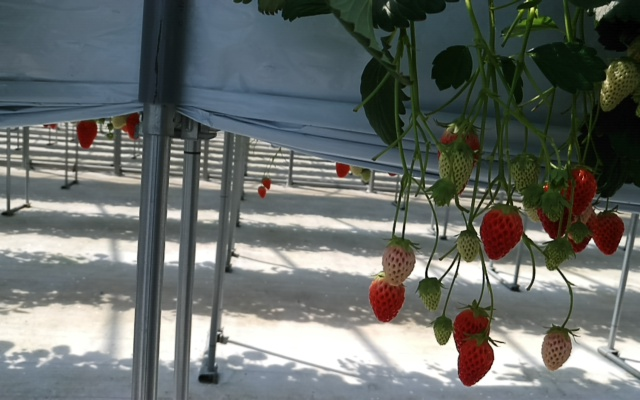GreenStrawberry: (598, 57, 640, 114), (438, 144, 478, 196), (382, 237, 417, 286), (541, 326, 573, 372), (509, 154, 541, 197), (544, 238, 572, 273), (417, 278, 444, 312), (456, 228, 481, 264), (433, 315, 453, 346)
MatureStrawberry: (438, 119, 478, 193), (478, 199, 525, 260), (537, 182, 577, 241), (451, 302, 495, 353), (454, 334, 495, 388), (558, 164, 598, 216), (368, 275, 406, 324), (588, 210, 625, 255), (563, 208, 596, 252)
